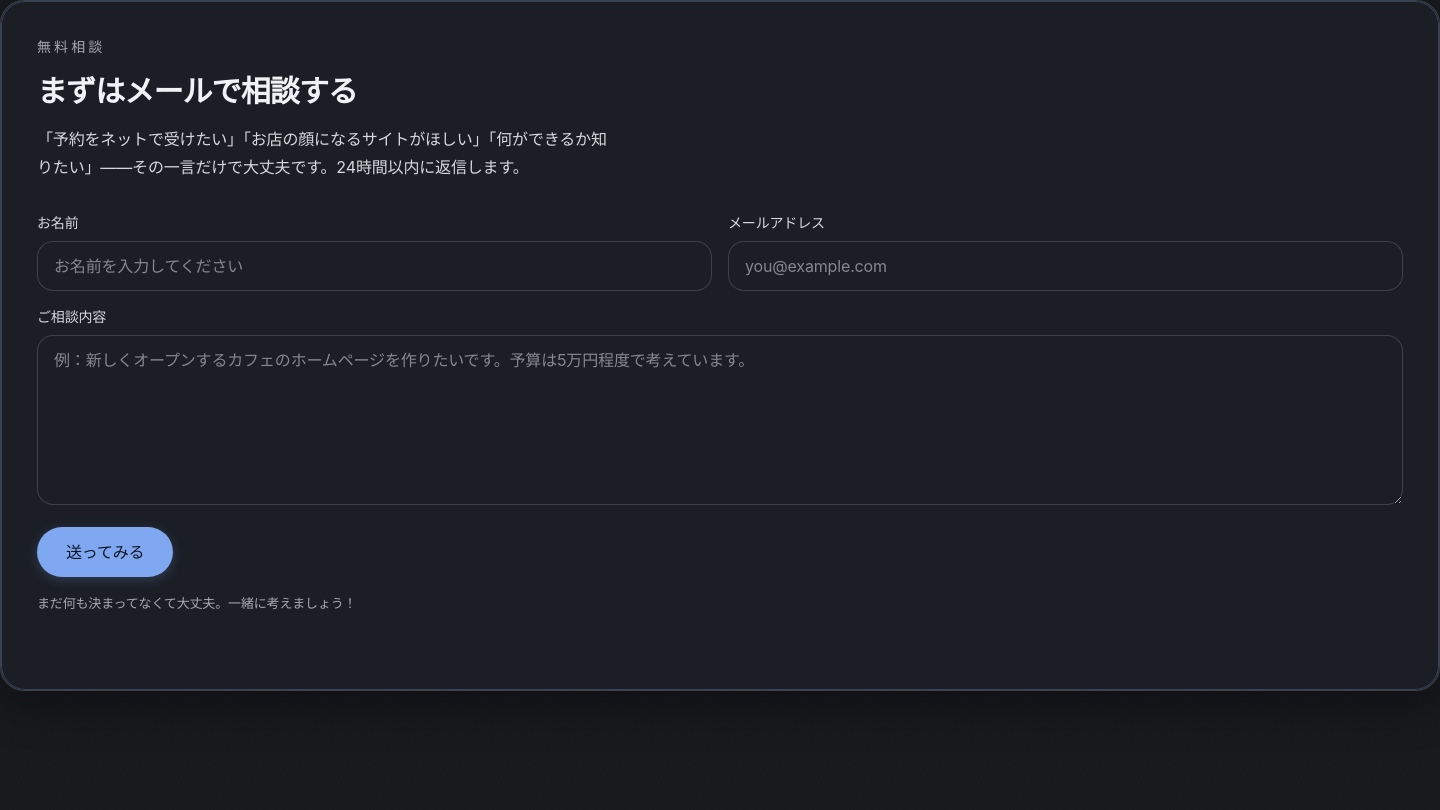
Test case: ContactForm › Send aldaa zaaval Error message haruulah.
Type "山田太郎" into the field labelled "お名前" at [374, 266], box x1=37 y1=241 x2=712 y2=291
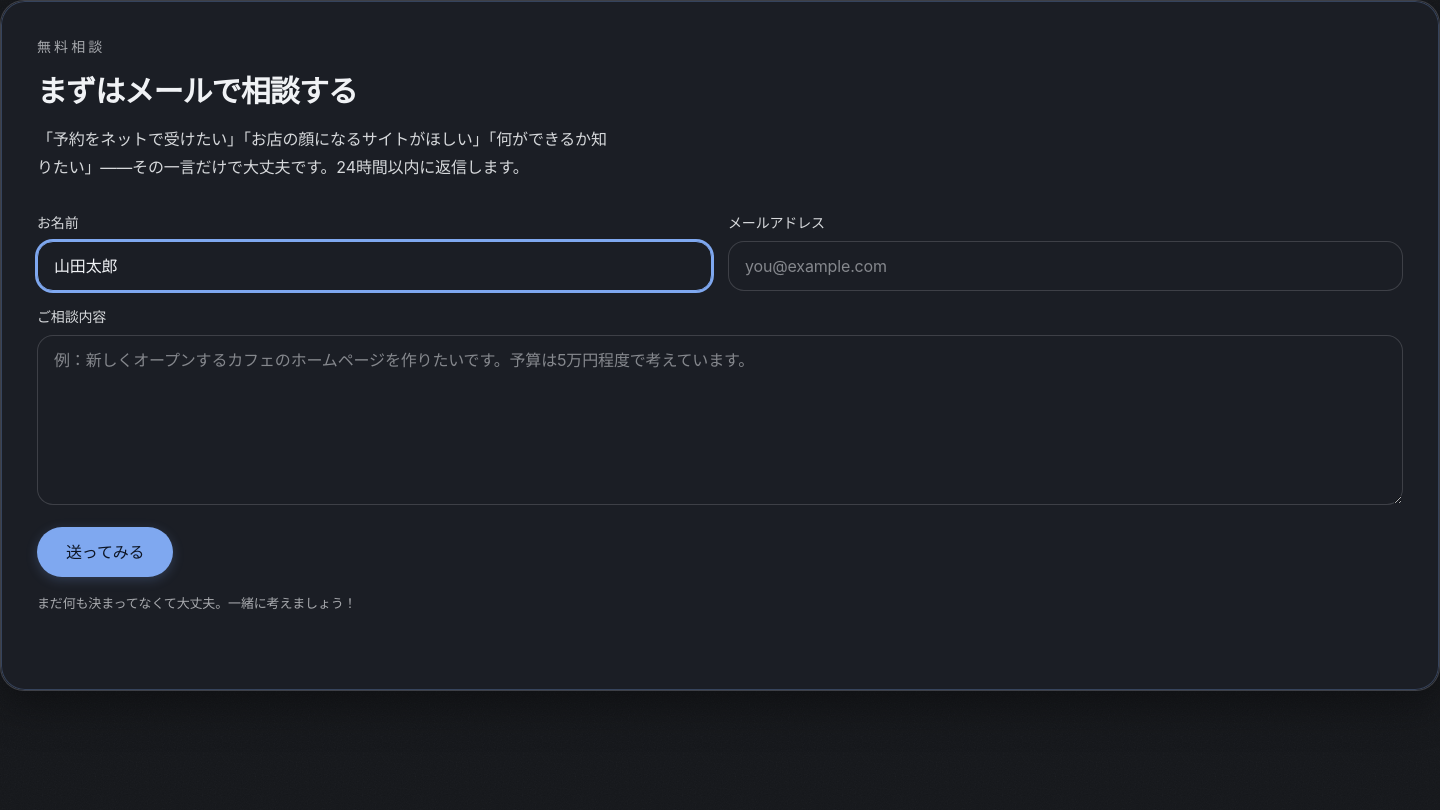
Type "test@example.com" into the field labelled "メールアドレス" at [1066, 266], box x1=728 y1=241 x2=1403 y2=291
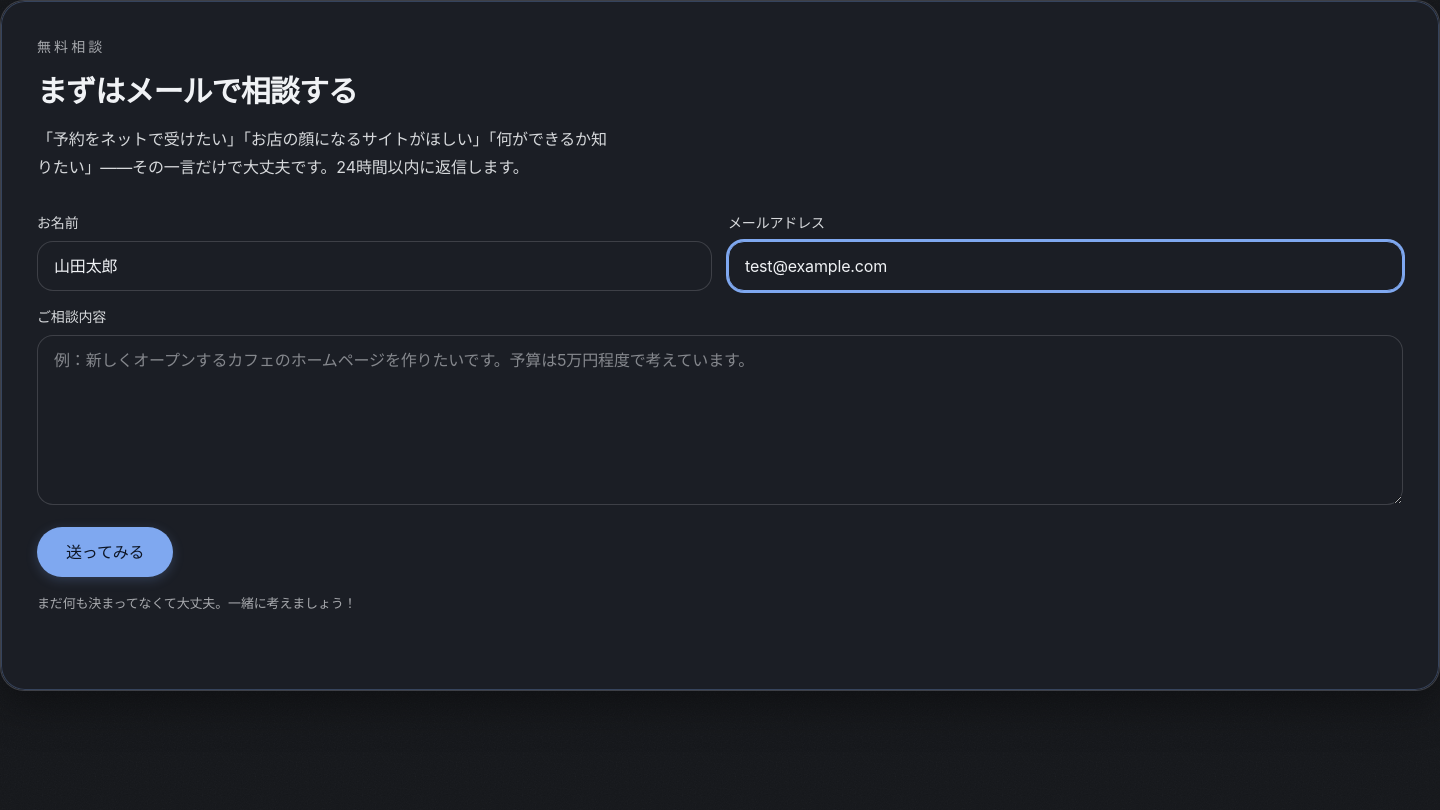
Type "お問い合わせ内容です" into the text box labelled "ご相談内容" at [720, 420], box x1=37 y1=335 x2=1403 y2=505
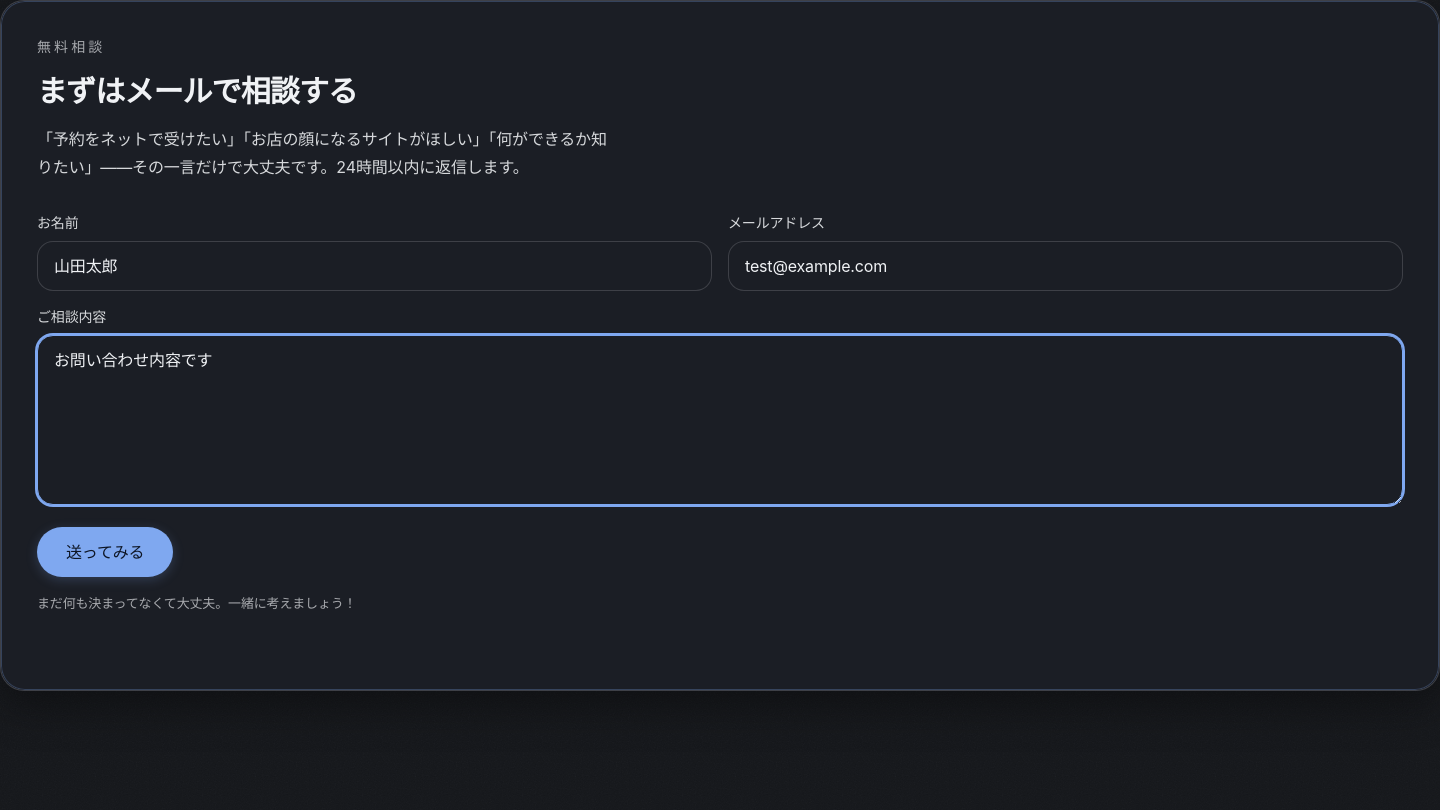
Click the button "送ってみる" at [105, 552], box x1=37 y1=527 x2=173 y2=577
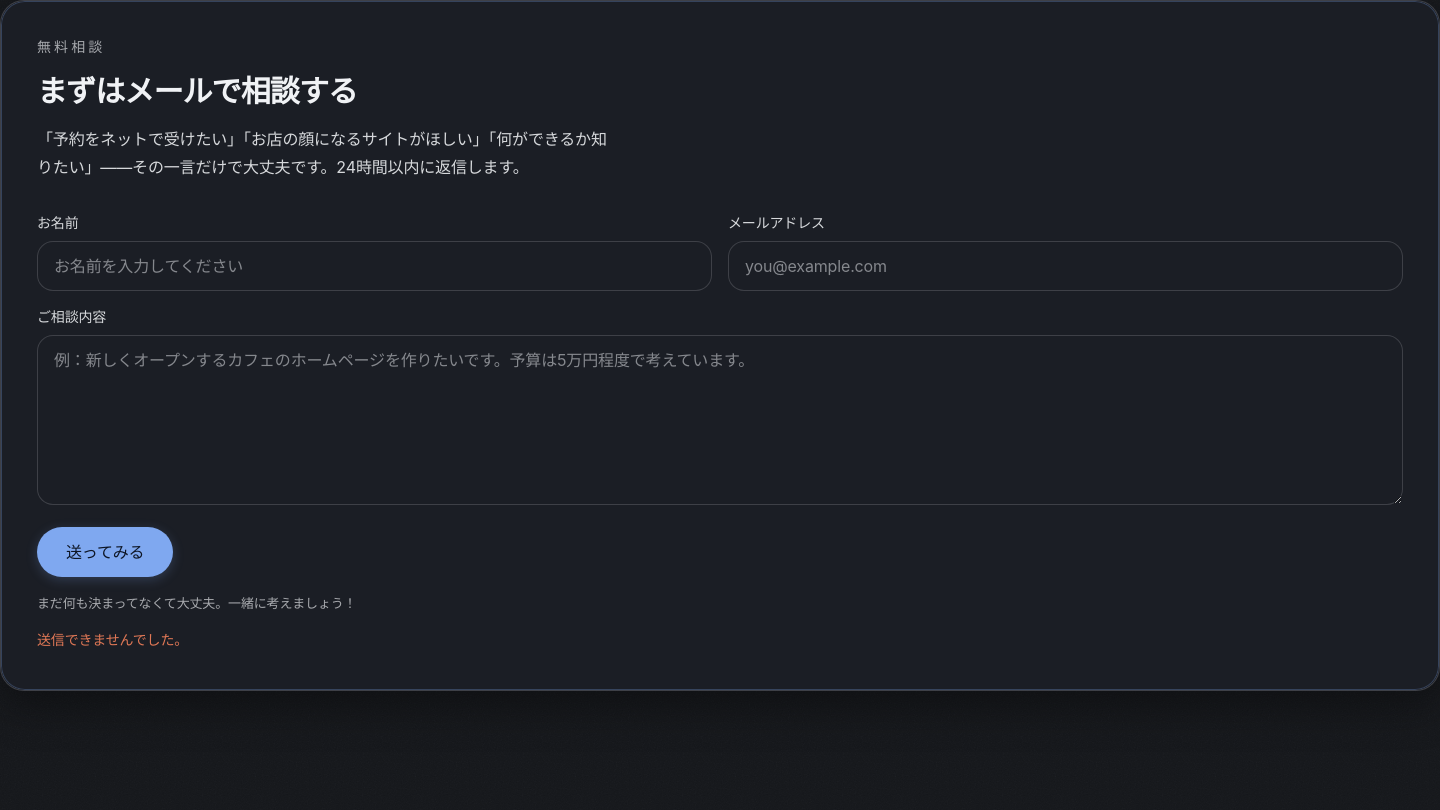
Expected: the text "送信できませんでした。" is shown, x1=37 y1=631 x2=188 y2=648
